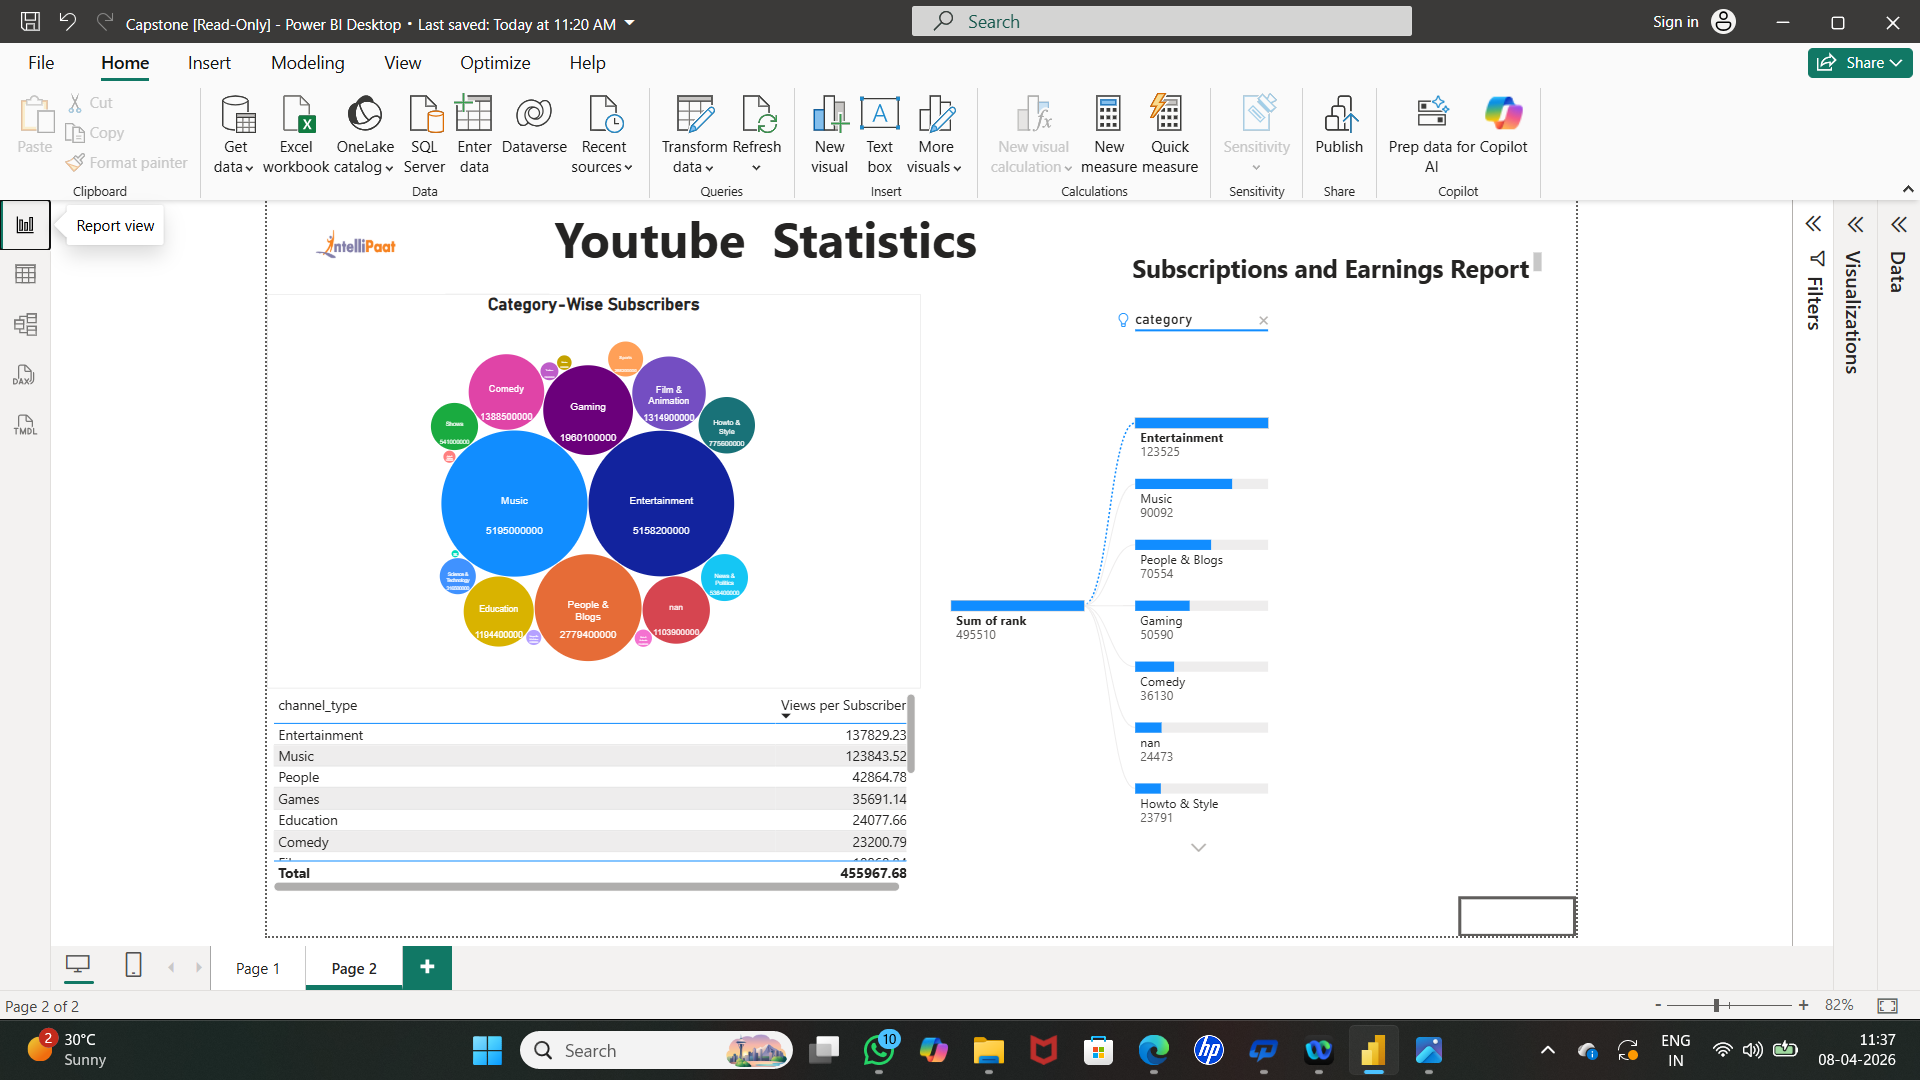

Layout of this report page (visuals, bound fields, positions):
{"tool":"powerbi","page":{"name":"Page 2","canvas":[1280,720],"ordinal":1},"visuals":[{"type":"PackedBubbleChart","title":"Category-Wise Subscribers","fields":{"category":["Global YouTube Statistics.category"],"measure":["Sum(Global YouTube Statistics.subscribers)"]},"box":[0,91.9,639.5,385.6],"z":0},{"type":"tableEx","fields":{"Values":["Global YouTube Statistics.channel_type","Sum(Global YouTube Statistics.Viewed by Subscribe)"]},"box":[0,477.5,639.5,203.1],"z":1000},{"type":"decompositionTreeVisual","fields":{"Analyze":["Sum(Global YouTube Statistics.rank)"],"ExplainBy":["Global YouTube Statistics.category"]},"box":[639.5,91.9,640.8,588.7],"z":2000},{"type":"actionButton","title":"Page 2","box":[1165,680.6,115.3,39.8],"z":3000},{"type":"image","box":[0,0,174.3,91.9],"z":4000},{"type":"textbox","box":[275.8,0,455.6,91.9],"z":5000},{"type":"textbox","box":[841.2,46.7,410.3,43.9],"z":6000}]}

Visuals, with their boxes on the page's 1280x720 design canvas (x1, y1, x2, y2). These are canvas units, not pixel positions in the 1920x1080 screenshot, which may show the page scaled, cropped or inside an application window:
"Category-Wise Subscribers" PackedBubbleChart: <region>0, 92, 640, 478</region>
tableEx - Global YouTube Statistics.channel_type x Sum(Global YouTube Statistics.Viewed by Subscribe): <region>0, 478, 640, 681</region>
decompositionTreeVisual - Sum(Global YouTube Statistics.rank) x Global YouTube Statistics.category: <region>640, 92, 1280, 681</region>
"Page 2" actionButton: <region>1165, 681, 1280, 720</region>
image: <region>0, 0, 174, 92</region>
textbox: <region>276, 0, 731, 92</region>
textbox: <region>841, 47, 1252, 91</region>
